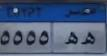5: (37, 26, 53, 52), (23, 28, 37, 53), (12, 25, 23, 51), (0, 28, 10, 52)
ه: (79, 29, 96, 50), (65, 31, 78, 52)
